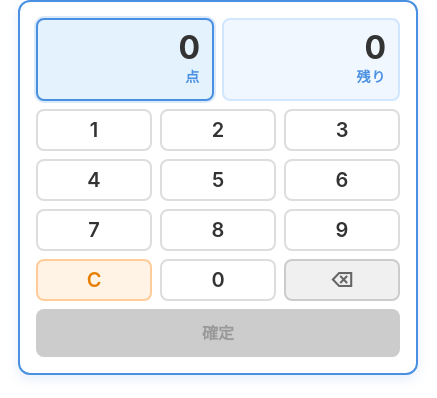
Test case: DualNumPad › クリア機能 › Escapeキーでアクティブフィールドがクリアされる
# 残り点数をアクティブにして入力
Click the button with class "dual-num-pad__display" showing "0 残り" at (311, 60), box [222, 18, 400, 101]
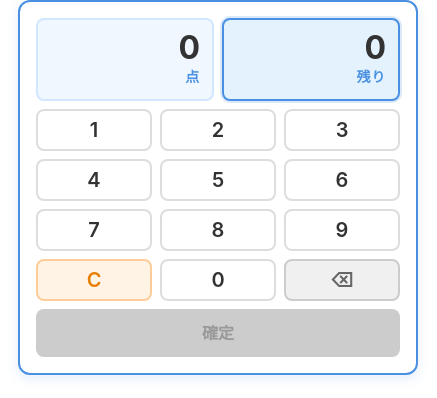
Press 5
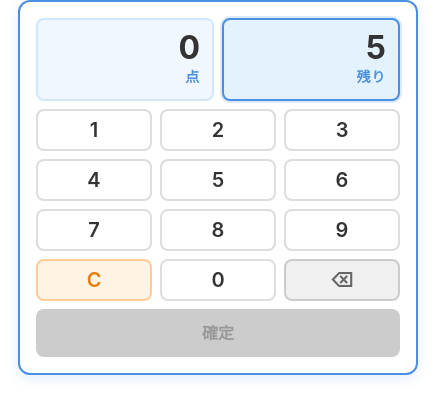
Press 0
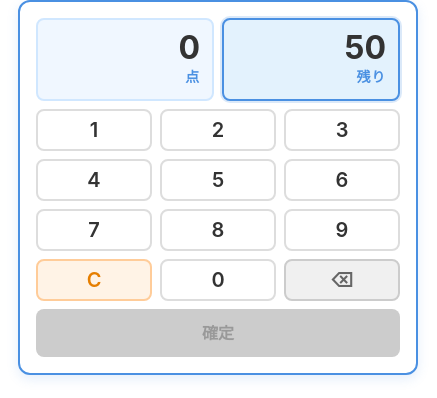
Press 1
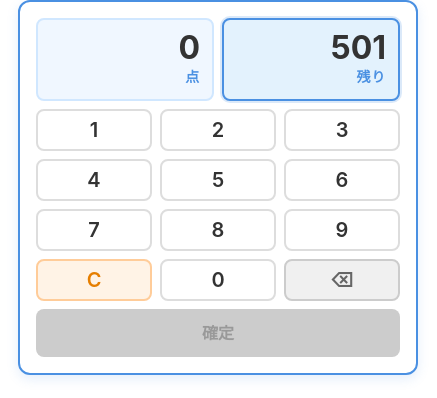
expect the text with class "dual-num-pad__input-value" reads "501": met, box [331, 28, 386, 67]
# Escapeキーでクリア
Press Escape
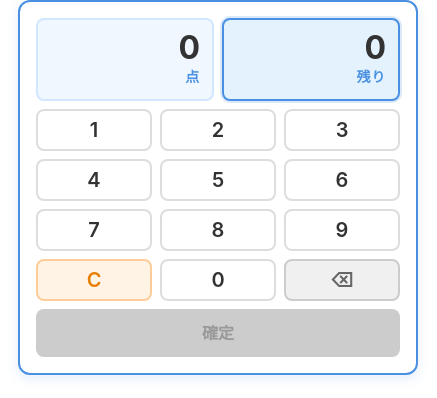
expect the 2nd text with class "dual-num-pad__input-value" reads "0": met, box [364, 28, 386, 67]
